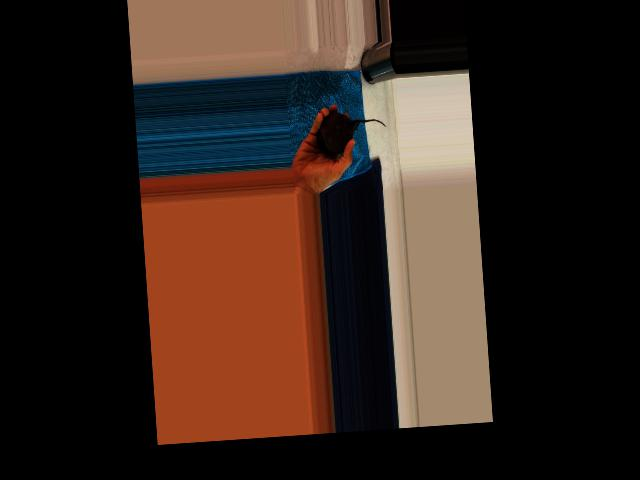beet: (314, 108, 387, 155)
